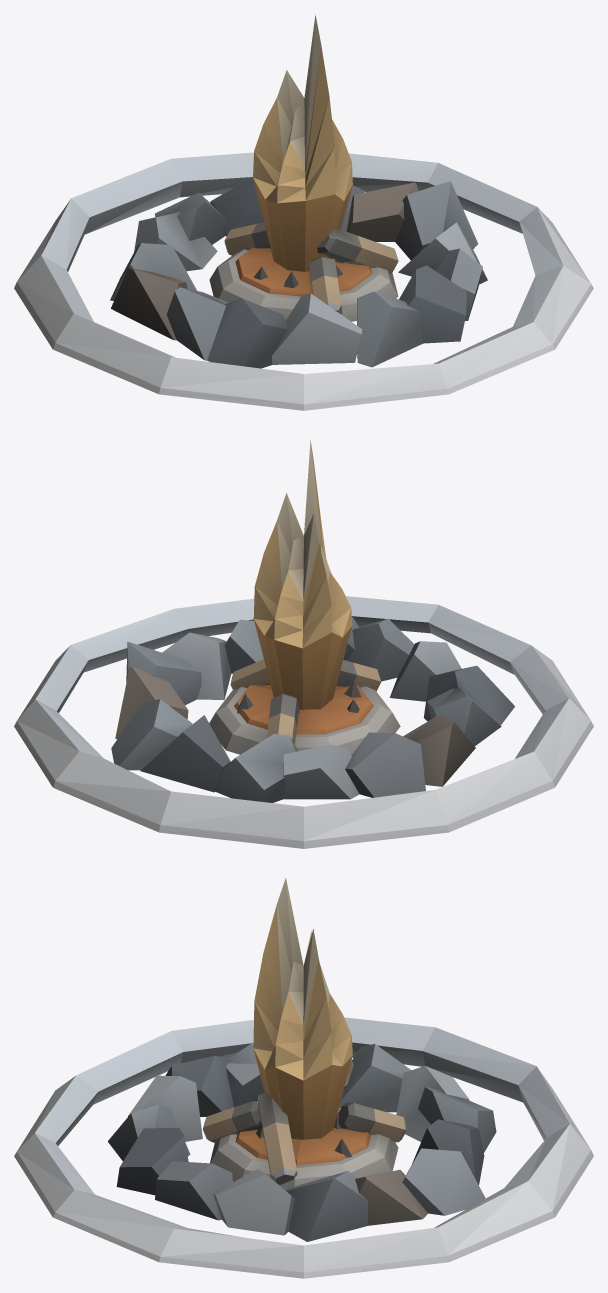
The model's file is firepit.glb.
The picture shows the model from 3 angles, top to bottom: view 1: azimuth 30°, elevation 25°; view 2: azimuth 150°, elevation 25°; view 3: azimuth 270°, elevation 25°; orthographic projection.
Visible parts, largest first — view 1: firepit; view 2: firepit; view 3: firepit.
Boxes of the visible parts, left/top/right/bottom form: firepit: left=14, top=14, right=593, bottom=410; firepit: left=14, top=440, right=593, bottom=848; firepit: left=14, top=878, right=593, bottom=1278.
Bounding box in the file's own units: 2 × 1.07 × 2.
